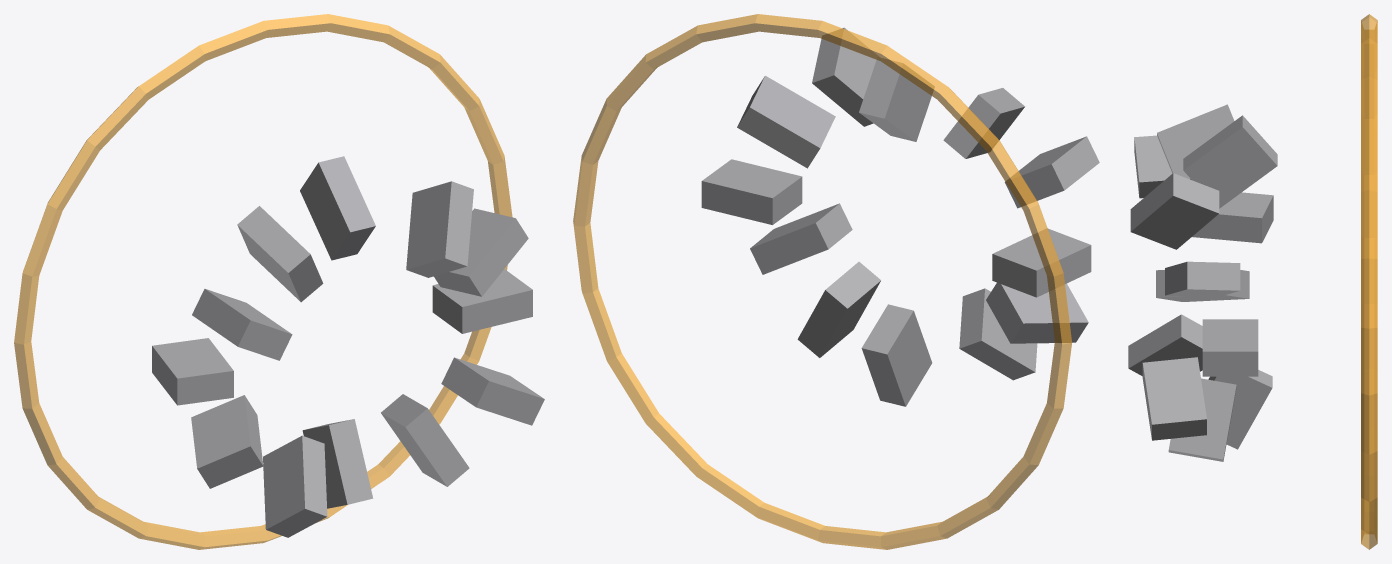
The model's file is vfx_armor_break_shards.glb.
The picture shows the model from 3 angles, left to right: view 1: azimuth 30°, elevation 25°; view 2: azimuth 150°, elevation 25°; view 3: azimuth 270°, elevation 25°; orthographic projection. The views are drawn at different scales.
Visible parts, largest first — view 1: break_ring, shard_8, shard_2, shard_3, shard_7, shard_6, shard_1, shard_0, shard_4, shard_10, shard_11, shard_5 (+1 smaller); view 2: break_ring, shard_1, shard_0, shard_9, shard_6, shard_7, shard_3, shard_2, shard_10, shard_8, shard_11, shard_5 (+1 smaller); view 3: break_ring, shard_3, shard_11, shard_2, shard_0, shard_10, shard_6, shard_8, shard_1, shard_4, shard_9, shard_5 (+1 smaller).
Boxes of the visible parts, x1,y1,x2,y2 form: break_ring: [14, 14, 512, 549]; shard_8: [263, 435, 327, 537]; shard_2: [406, 181, 473, 277]; shard_3: [300, 156, 375, 260]; shard_7: [191, 395, 263, 488]; shard_6: [152, 338, 233, 405]; shard_1: [434, 208, 528, 296]; shard_0: [432, 269, 532, 333]; shard_4: [237, 206, 323, 302]; shard_10: [381, 394, 469, 486]; shard_11: [441, 357, 544, 425]; shard_5: [192, 289, 292, 360]; break_ring: [573, 14, 1071, 549]; shard_1: [737, 75, 835, 168]; shard_0: [701, 159, 802, 224]; shard_9: [861, 304, 932, 406]; shard_6: [992, 228, 1091, 297]; shard_7: [986, 282, 1088, 343]; shard_3: [859, 57, 934, 141]; shard_2: [812, 27, 878, 126]; shard_10: [797, 261, 880, 357]; shard_8: [959, 288, 1037, 380]; shard_11: [750, 203, 852, 274]; shard_5: [1004, 136, 1099, 208]; break_ring: [1361, 14, 1377, 549]; shard_3: [1183, 115, 1277, 208]; shard_11: [1142, 357, 1206, 440]; shard_2: [1130, 173, 1219, 249]; shard_0: [1202, 319, 1258, 376]; shard_10: [1168, 378, 1236, 461]; shard_6: [1192, 192, 1273, 243]; shard_8: [1128, 314, 1202, 376]; shard_1: [1165, 261, 1240, 296]; shard_4: [1157, 104, 1234, 179]; shard_9: [1208, 370, 1272, 449]; shard_5: [1134, 135, 1172, 198].
Bounding box in the file's own units: 1.55 × 1.55 × 0.7177.
